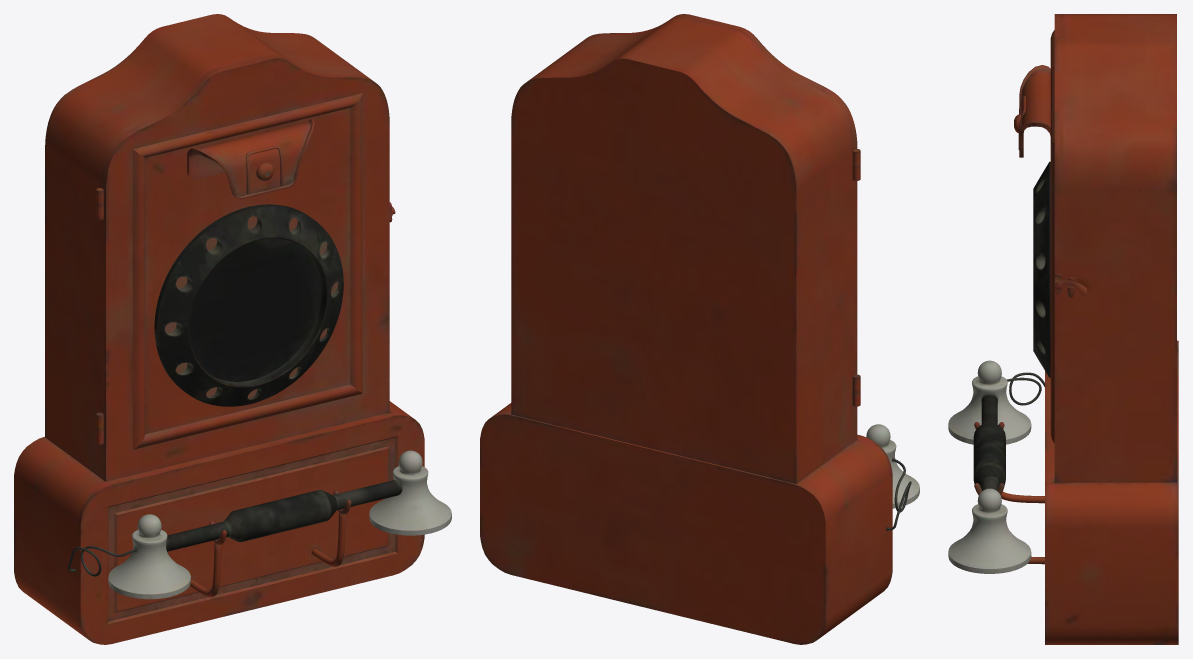
The model's file is vintage_telephone_wall_clock.glb.
3 views of the same model, side by side, from view 1: azimuth 30°, elevation 25°; view 2: azimuth 150°, elevation 25°; view 3: azimuth 270°, elevation 25° (orthographic).
Visible parts, largest first — view 1: vintage_telephone_wall_clock; view 2: vintage_telephone_wall_clock; view 3: vintage_telephone_wall_clock.
Part boxes in pixels (x1=…): vintage_telephone_wall_clock: x1=14, y1=14, x2=451, y2=644; vintage_telephone_wall_clock: x1=480, y1=14, x2=919, y2=644; vintage_telephone_wall_clock: x1=948, y1=14, x2=1178, y2=644.
Size of the model in its own units: 0.3428 by 0.5012 by 0.1926.
2 materials, 2 textured.
